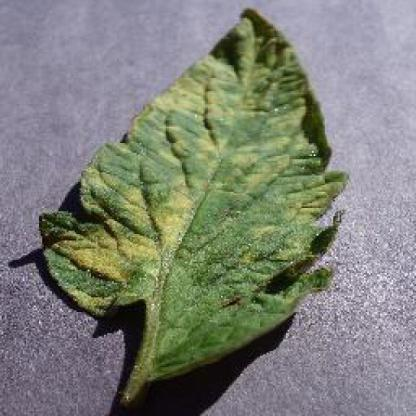Tomato_Leaf_Mold: (38, 9, 346, 363)
